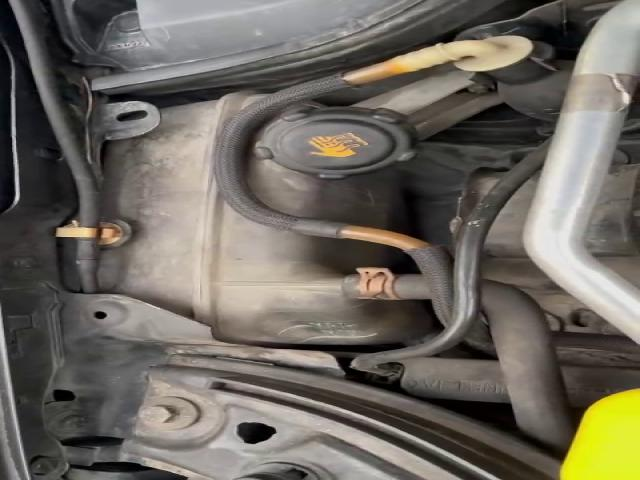antifreeze_tank: (102, 92, 433, 345), (247, 107, 413, 229)
